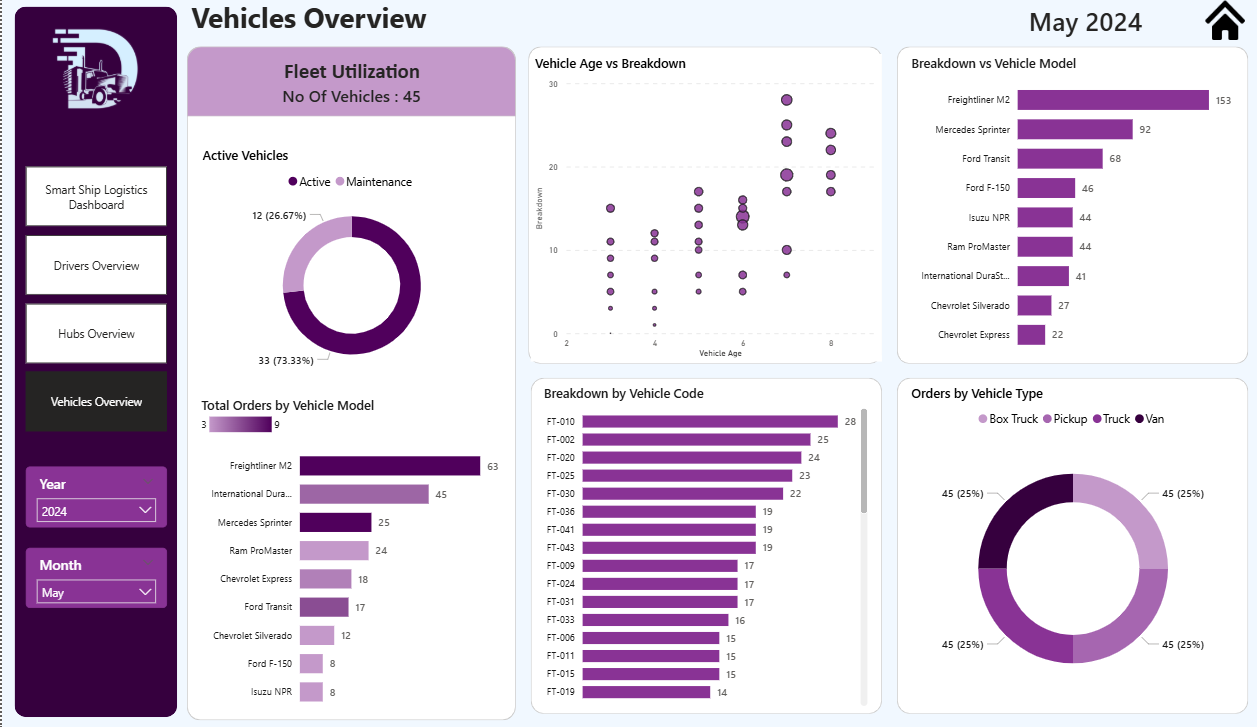

Layout of this report page (visuals, bound fields, positions):
{"tool":"powerbi","page":{"name":"Vehicles Overview","canvas":[1450,850],"ordinal":3},"visuals":[{"type":"shape","box":[14,14,188,820.8],"z":0},{"type":"textbox","box":[213.7,0,333.5,60.6],"z":1000},{"type":"slicer","fields":{"Values":["Date Table.Year"]},"box":[27.4,545.7,163.1,70.7],"z":2000},{"type":"slicer","fields":{"Values":["Date Table.Month"]},"box":[27.4,639.5,163.1,69.3],"z":3000},{"type":"shape","box":[213.7,60.6,379.7,778.1],"z":4000},{"type":"shape","box":[213.7,60.6,379.7,80.8],"z":5000},{"type":"cardVisual","fields":{"Data":["Vehicles.No Of Vehicles"]},"box":[298.8,101.1,210.8,31.8],"z":6000},{"type":"textbox","box":[316.2,69.3,176.1,40.4],"z":7000},{"type":"donutChart","title":"Active Vehicles","fields":{"Category":["Vehicles.Vehicle Status"],"Y":["CountNonNull(Vehicles.Vehicle ID)"]},"box":[226.6,176.1,355.1,271.4],"z":8000},{"type":"barChart","fields":{"Category":["Vehicles.Vehicle Model"],"Y":["Orders.Total Orders"]},"box":[225.2,464.8,356.6,371],"z":9000},{"type":"image","box":[44.3,30,128.6,120],"z":10000},{"type":"shape","box":[607.8,60.6,408.5,366.7],"z":11000},{"type":"image","box":[1375.8,0,73.6,60.6],"z":12000},{"type":"shape","box":[1033.6,60.6,405.7,366.7],"z":13000},{"type":"shape","box":[610.7,443.2,405.7,388.3],"z":14000},{"type":"shape","box":[1033.6,443.2,405.7,388.3],"z":15000},{"type":"scatterChart","title":"Vehicle Age vs Breakdown ","fields":{"X":["Vehicles.Vehicle Age"],"Y":["Vehicles.Breakdown"],"Size":["Sum(Vehicles.Breakdown)1"]},"box":[610.7,69.3,405.7,355.1],"z":16000},{"type":"barChart","title":"Breakdown by Vehicle Code","fields":{"Category":["Vehicles.Vehicle Code"],"Y":["Sum(Vehicles.Breakdown)"]},"box":[620.8,450.4,384,376.8],"z":16001},{"type":"barChart","title":"Breakdown vs Vehicle Model","fields":{"Category":["Vehicles.Vehicle Model"],"Y":["Sum(Vehicles.Breakdown)"]},"box":[1045.2,69.3,384,355.1],"z":16002},{"type":"donutChart","title":"Orders by Vehicle Type","fields":{"Category":["Orders.Vehicle Type"],"Y":["CountNonNull(Vehicles.Vehicle ID)"]},"box":[1045.2,450.4,384,376.8],"z":16003},{"type":"cardVisual","fields":{"Data":["Orders.Year Month Title"]},"box":[1127.5,0,248.3,60.6],"z":16004},{"type":"pageNavigator","box":[27.4,199.2,163.1,307.5],"z":16005}]}

Visuals, with their boxes in screenshot pixels (x1, y1, x2, y2), scaled from the page's 1450x850 canvas onto the 1257x727 screenshot:
shape: (left=12, top=12, right=175, bottom=714)
textbox: (left=185, top=0, right=474, bottom=52)
slicer - Date Table.Year: (left=24, top=467, right=165, bottom=527)
slicer - Date Table.Month: (left=24, top=547, right=165, bottom=606)
shape: (left=185, top=52, right=514, bottom=717)
shape: (left=185, top=52, right=514, bottom=121)
cardVisual - Vehicles.No Of Vehicles: (left=259, top=86, right=442, bottom=114)
textbox: (left=274, top=59, right=427, bottom=94)
"Active Vehicles" donutChart: (left=196, top=151, right=504, bottom=383)
barChart - Vehicles.Vehicle Model x Orders.Total Orders: (left=195, top=398, right=504, bottom=715)
image: (left=38, top=26, right=150, bottom=128)
shape: (left=527, top=52, right=881, bottom=365)
image: (left=1193, top=0, right=1256, bottom=52)
shape: (left=896, top=52, right=1248, bottom=365)
shape: (left=529, top=379, right=881, bottom=711)
shape: (left=896, top=379, right=1248, bottom=711)
"Vehicle Age vs Breakdown " scatterChart: (left=529, top=59, right=881, bottom=363)
"Breakdown by Vehicle Code" barChart: (left=538, top=385, right=871, bottom=707)
"Breakdown vs Vehicle Model" barChart: (left=906, top=59, right=1239, bottom=363)
"Orders by Vehicle Type" donutChart: (left=906, top=385, right=1239, bottom=707)
cardVisual - Orders.Year Month Title: (left=977, top=0, right=1193, bottom=52)
pageNavigator: (left=24, top=170, right=165, bottom=433)
